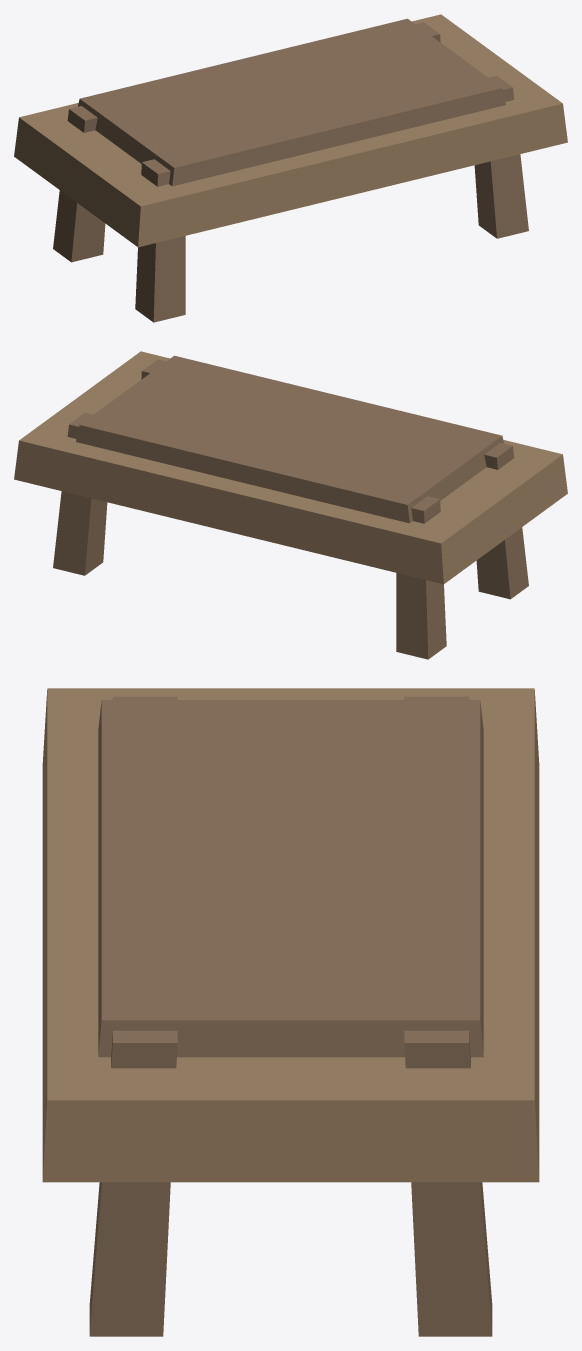
File: bench_short.glb
3 renders of one model, top to bottom at view 1: azimuth 30°, elevation 25°; view 2: azimuth 150°, elevation 25°; view 3: azimuth 270°, elevation 25°, orthographic. The views are drawn at different scales.
Parts seen in each view (by area): view 1: part_5, part_4, part_1, part_3, part_0; view 2: part_5, part_4, part_0, part_2, part_1; view 3: part_5, part_4, part_2, part_3.
Part boxes in pixels (bbox=[...]): part_5: bbox=[78, 18, 505, 186]; part_4: bbox=[14, 14, 567, 247]; part_1: bbox=[135, 159, 185, 322]; part_3: bbox=[474, 75, 528, 238]; part_0: bbox=[53, 106, 105, 262]; part_5: bbox=[76, 355, 503, 523]; part_4: bbox=[14, 351, 567, 584]; part_0: bbox=[396, 496, 446, 659]; part_2: bbox=[53, 412, 107, 575]; part_1: bbox=[476, 443, 528, 599]; part_5: bbox=[98, 700, 483, 1057]; part_4: bbox=[42, 688, 539, 1182]; part_2: bbox=[404, 1030, 492, 1336]; part_3: bbox=[89, 1030, 177, 1336].
Size of the model in its own units: 1.84 by 0.6 by 0.92.
